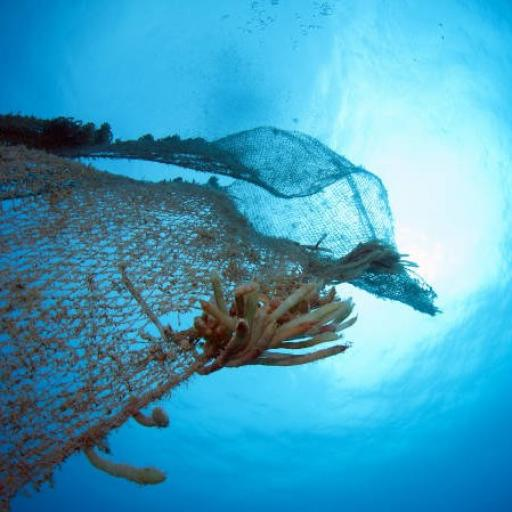net: (0, 110, 436, 512)
